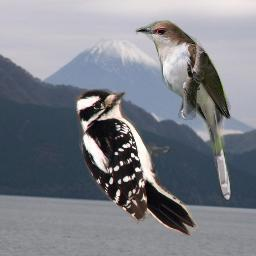Cuckoo: (134, 20, 232, 201)
Woodpecker: (75, 89, 198, 239)
